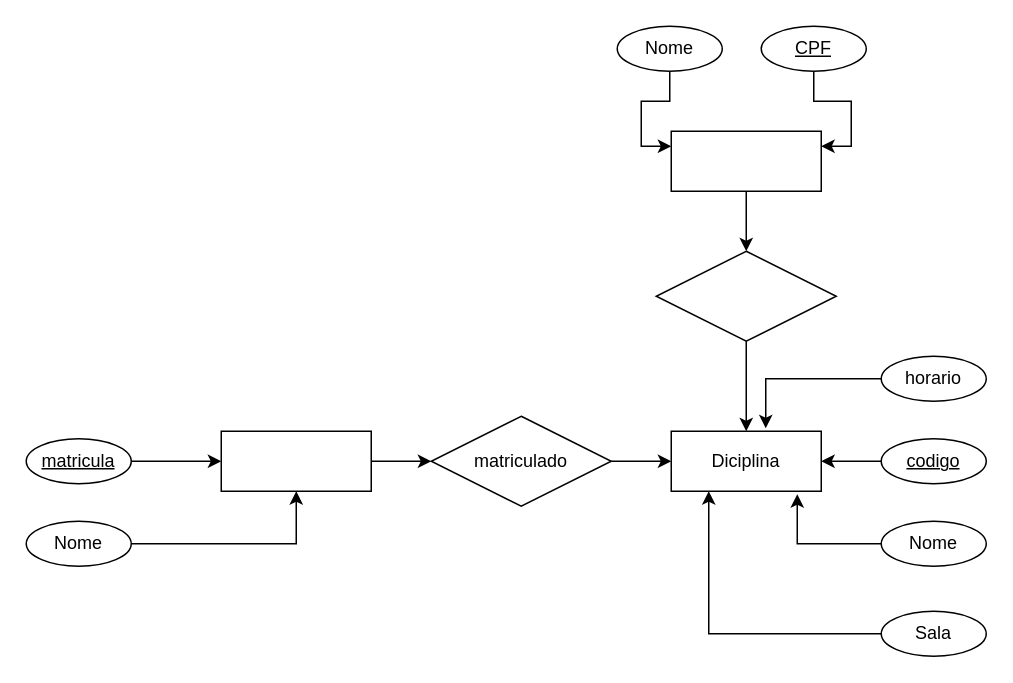
Image size: 1013x683. Some labels were removed from this diagram. The shapes that lost their labels are listed below. From the top down, each one's box as (x1, y1, x2, y2) in pixels, then its label:
(670, 130, 821, 191): Professor
(655, 250, 836, 341): lecionar
(220, 430, 371, 491): Aluno
